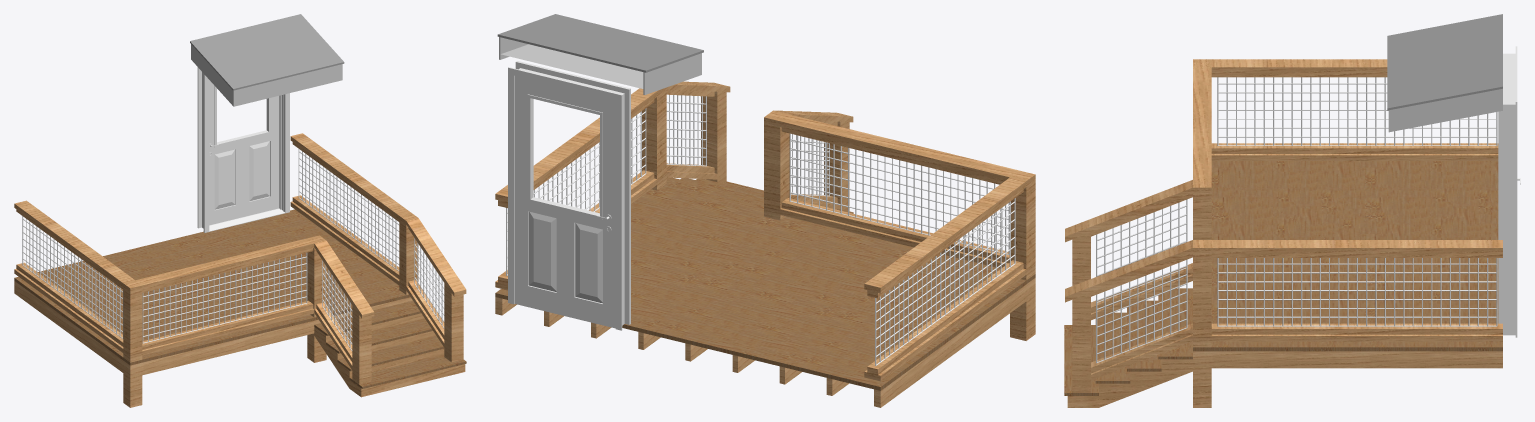
Rendered from ext-door-porch-12.glb.
The picture shows the model from 3 angles, left to right: view 1: azimuth 30°, elevation 25°; view 2: azimuth 150°, elevation 25°; view 3: azimuth 270°, elevation 25°; orthographic projection. The views are drawn at different scales.
Parts seen in each view (by area): view 1: stair-wood, stair-floorfinish, stair-metal, door-white, stair- Rooftop, stair- Roofsiding; view 2: stair-floorfinish, stair-wood, door-white, stair-metal, stair- Rooftop, stair- Roofsiding; view 3: stair-floorfinish, stair-wood, stair-metal, stair- Rooftop, door-white, stair- Roofsiding.
Part boxes in pixels (x1,y1,x2,y2): stair-wood: [14, 133, 466, 407]; stair-floorfinish: [14, 209, 466, 388]; stair-metal: [22, 149, 444, 351]; door-white: [197, 67, 289, 232]; stair- Rooftop: [190, 14, 344, 90]; stair- Roofsiding: [191, 44, 342, 106]; stair-floorfinish: [495, 177, 1035, 390]; stair-wood: [495, 81, 1035, 407]; door-white: [508, 61, 630, 330]; stair-metal: [506, 95, 1015, 365]; stair- Rooftop: [497, 14, 703, 72]; stair- Roofsiding: [499, 37, 701, 94]; stair-floorfinish: [1064, 161, 1502, 395]; stair-wood: [1065, 59, 1502, 407]; stair-metal: [1096, 77, 1497, 363]; stair- Rooftop: [1387, 14, 1502, 110]; door-white: [1498, 46, 1517, 337]; stair- Roofsiding: [1388, 88, 1502, 132].
Size of the model in its own units: 3.61 by 2.86 by 3.7.
8 materials, 2 textured.
